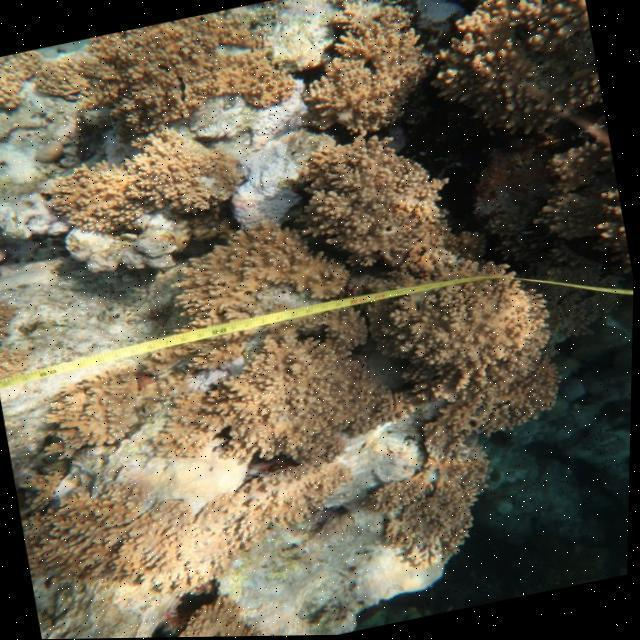Healthy Coral: (22, 455, 368, 615), (185, 304, 410, 478), (386, 250, 565, 420), (66, 0, 286, 132), (52, 114, 251, 253), (297, 132, 463, 296), (282, 0, 449, 139), (362, 446, 514, 590), (445, 0, 605, 129), (167, 216, 342, 330), (34, 347, 184, 462), (407, 366, 582, 464)
